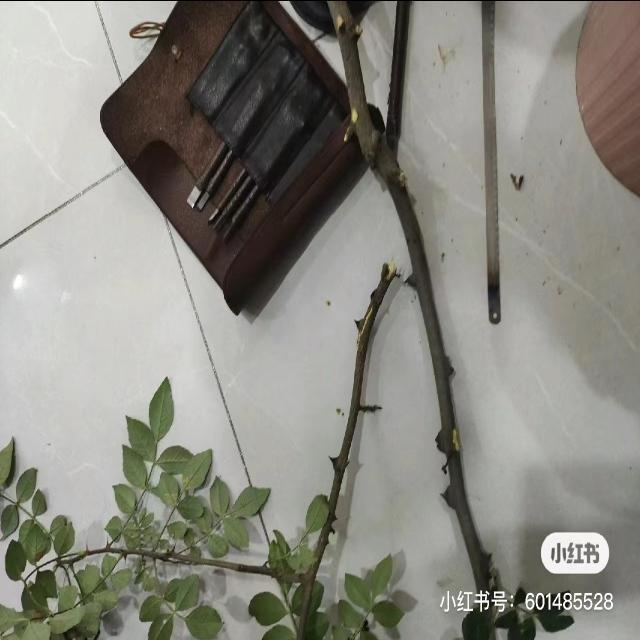branch: (338, 20, 493, 590), (329, 264, 394, 531)
